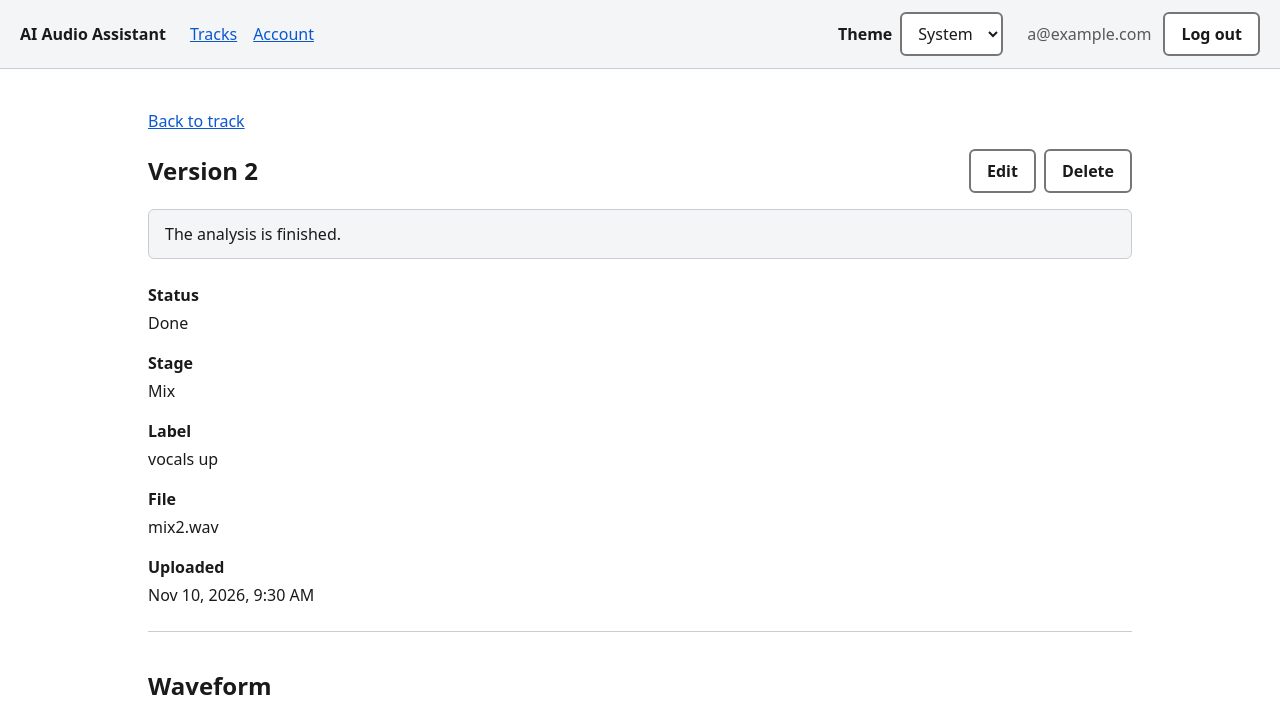
Test: editing › opens the edit dialog and shows the saved change in place
Check: the heading "Version 2" is shown, box [148,153,258,189]
Click the button "Edit": (1002, 171) [969,149,1036,193]
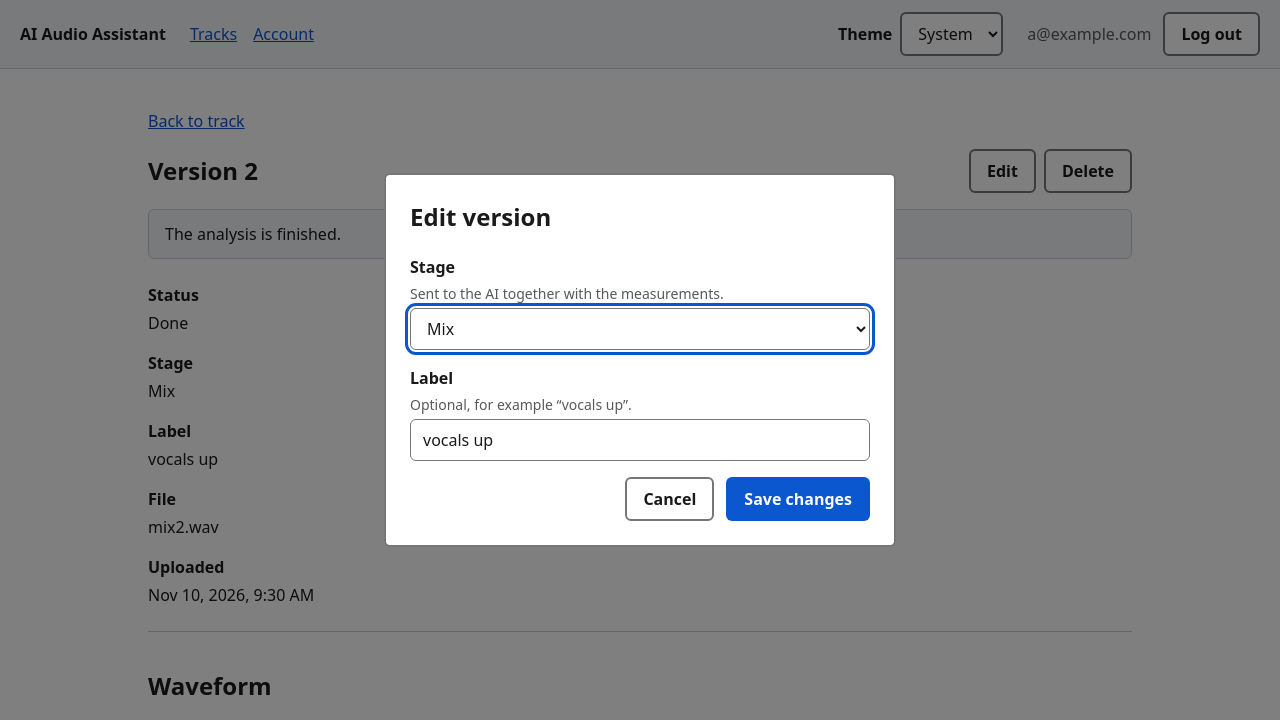
Check: the dialog "Edit version" is shown, box [384,173,896,547]
Select "Master" in the dropdown labelled "Stage": (640, 329) [410,308,870,350]
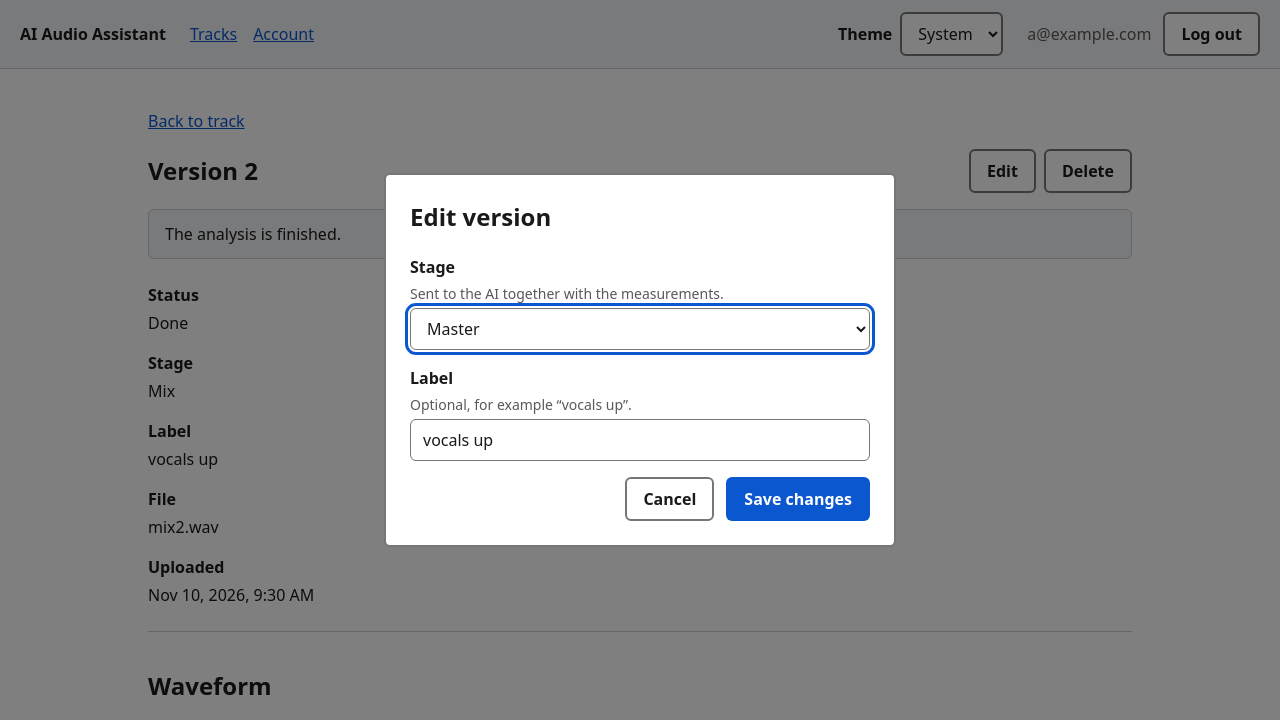
Click the button "Save changes": (798, 499) [726,477,870,521]
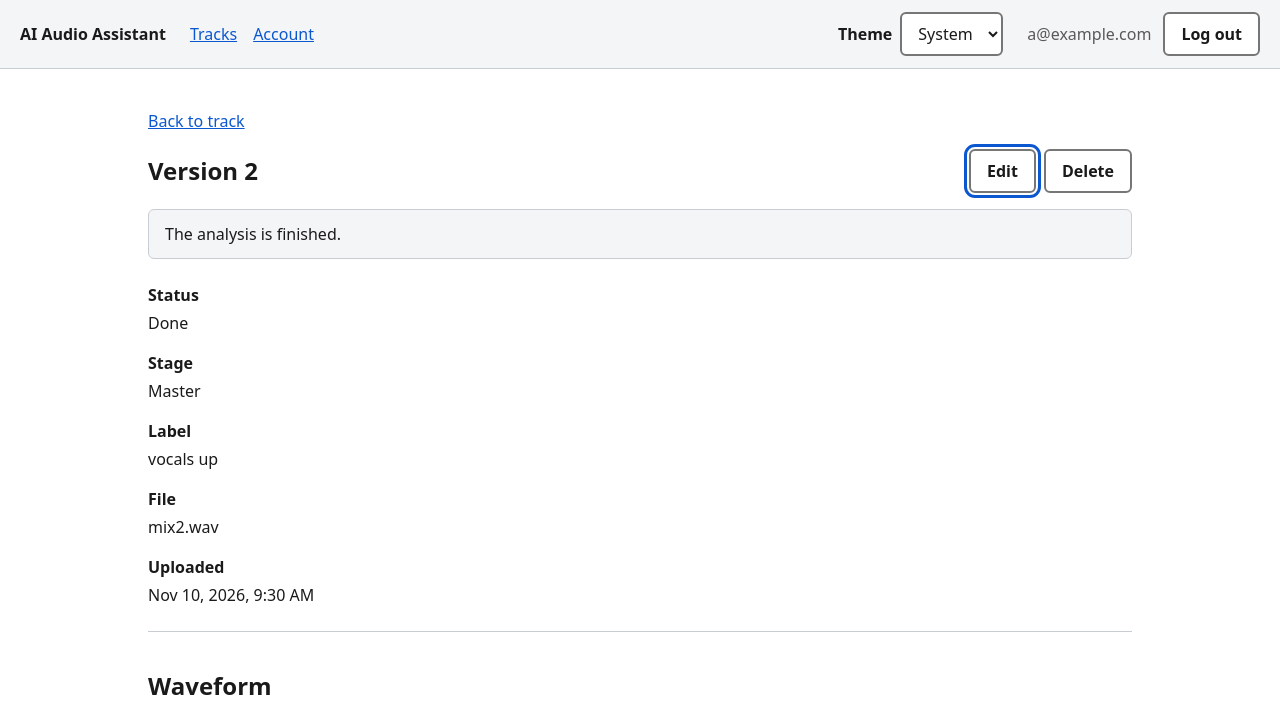
Check: the text "Master" is shown, box [148,380,201,402]
Check: the dialog is gone
